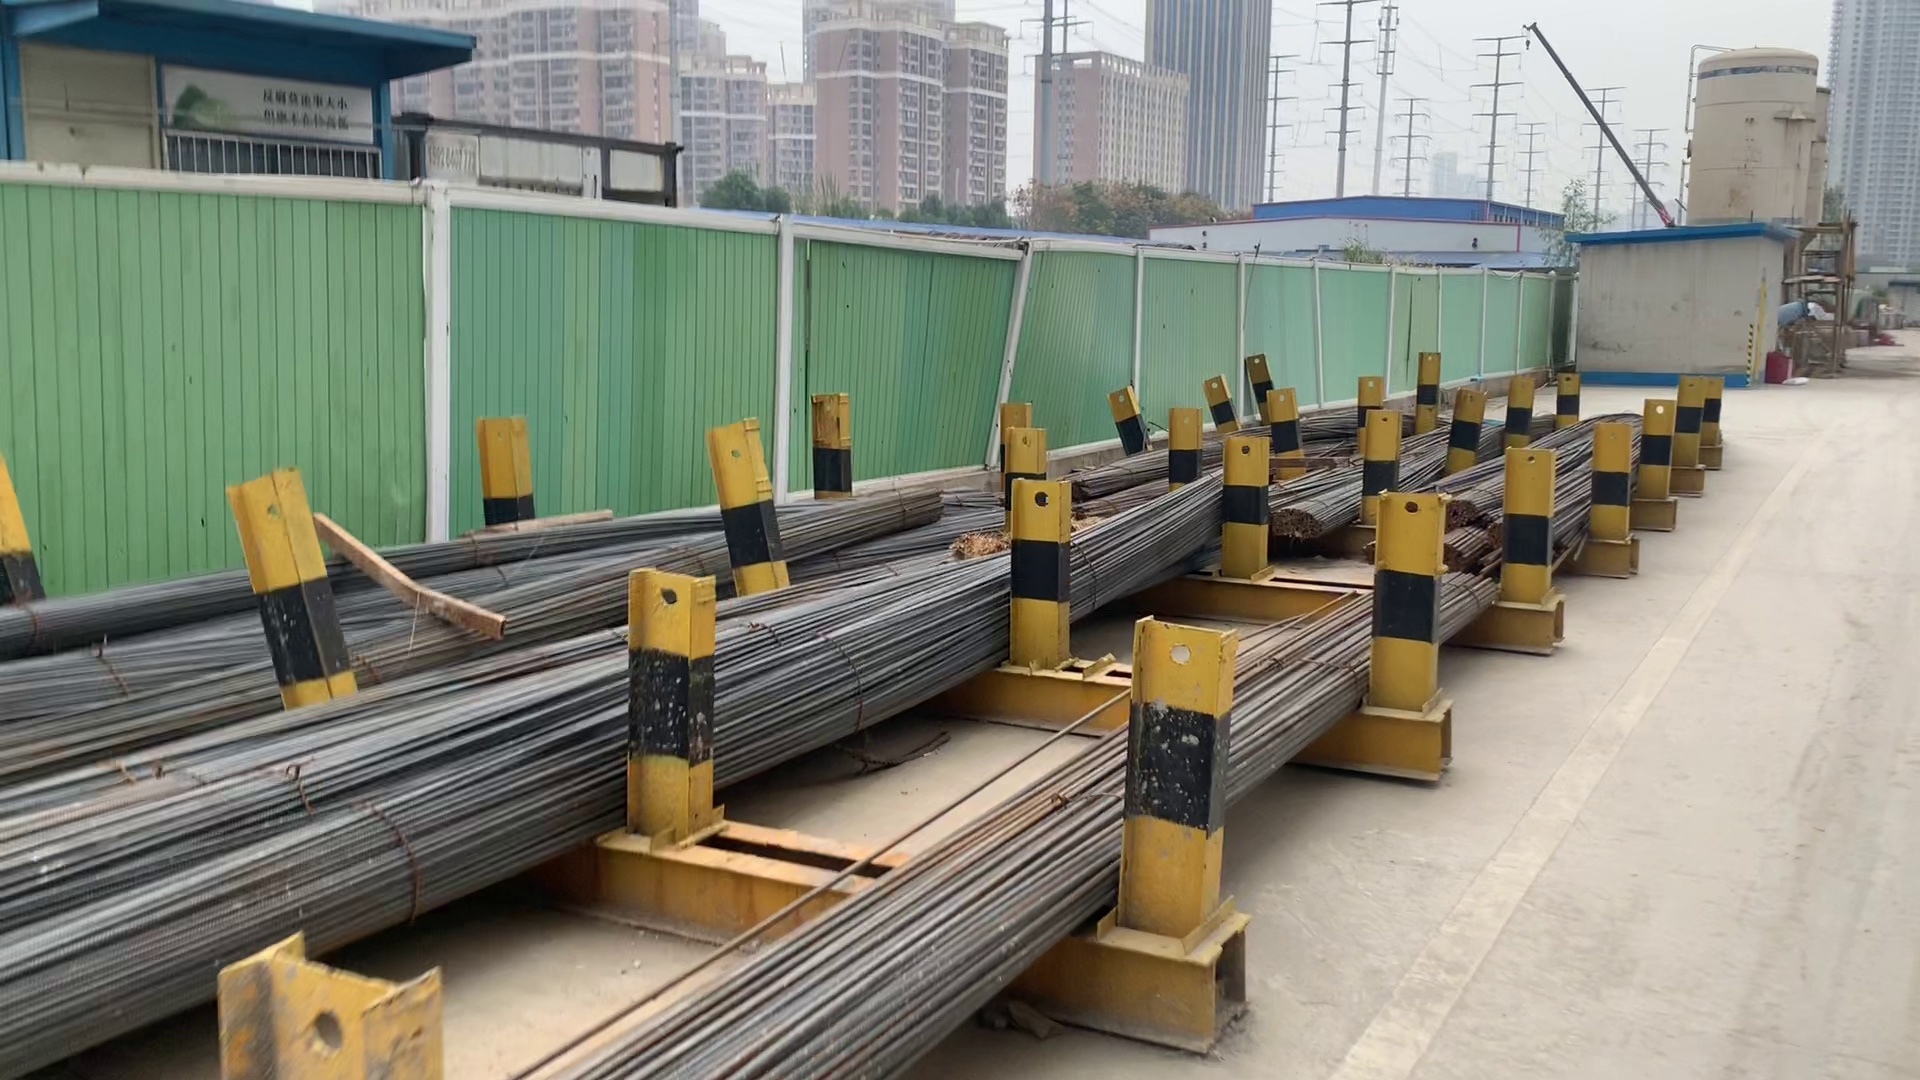rebar: (1265, 500, 1331, 538), (1441, 498, 1480, 524), (1487, 512, 1510, 549), (1443, 539, 1465, 570)
